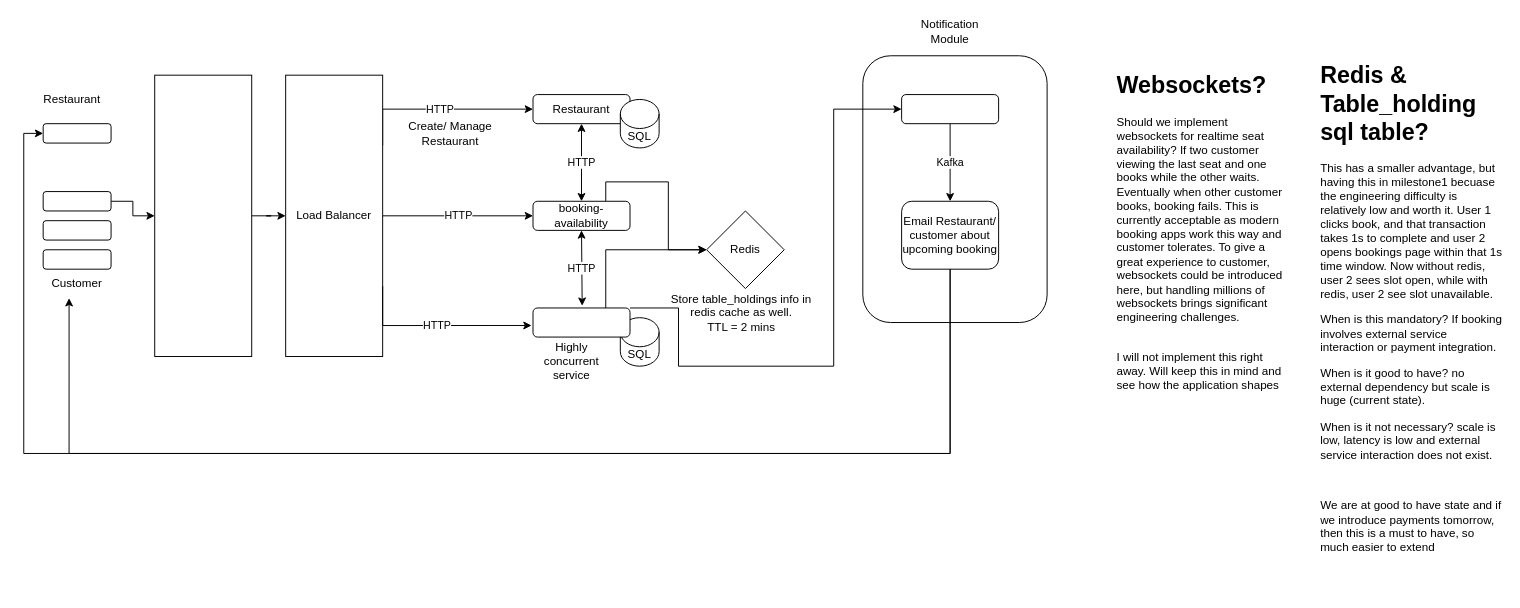
Image size: 1520x608. Some labels were removed from this diagram. Each missing label, with the centre of its shape:
API Gateway rate-limiting security: the point at 203,215
Booking: the point at 581,322
Scheduler: the point at 950,109
